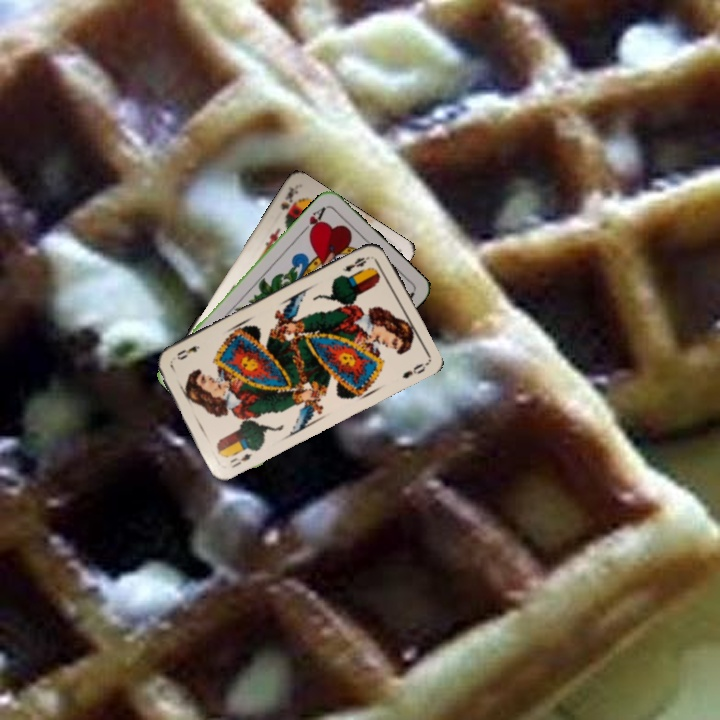EO: (338, 252, 372, 274), (226, 449, 255, 471)
HA: (298, 202, 329, 238)
SK: (277, 182, 301, 220)
